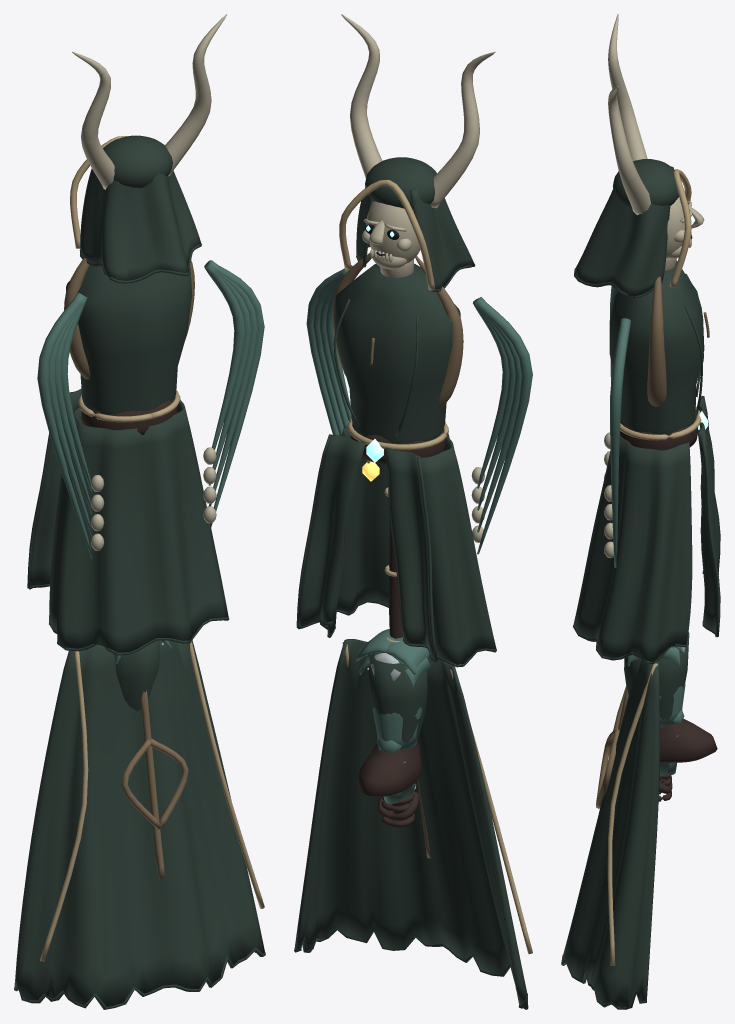
Rendered from guardian_1.glb.
3 views of the same model, side by side, from view 1: azimuth 30°, elevation 25°; view 2: azimuth 150°, elevation 25°; view 3: azimuth 270°, elevation 25° (orthographic). The views are drawn at different scales.
Parts seen in each view (by area): view 1: Cape__sage, Body__sage, Body__patina, Body__bone, Cape__gold, Cape__bronze, LegL__sage, Body__gold, Weapon__bronze, Body__leather; view 2: Body__sage, Cape__sage, Body__patina, Body__bone, LegL__sage, KneeL__leather, Body__gold, Weapon__bronze, ArmL__patina, Cape__gold, KneeL__patina, Weapon__leather (+3 smaller); view 3: Body__sage, Cape__sage, Body__bone, Body__patina, KneeL__leather, Weapon__bronze, LegL__sage, Cape__gold, Body__gold, Cape__bronze, Body__leather, KneeL__patina.
Part boxes in pixels (x1=…): Cape__sage: x1=14, y1=640, x2=265, y2=1009; Body__sage: x1=27, y1=135, x2=229, y2=655; Body__patina: x1=37, y1=260, x2=264, y2=558; Body__bone: x1=72, y1=14, x2=227, y2=550; Cape__gold: x1=40, y1=641, x2=264, y2=961; Cape__bronze: x1=121, y1=690, x2=188, y2=878; LegL__sage: x1=115, y1=640, x2=159, y2=711; Body__gold: x1=70, y1=136, x2=180, y2=422; Weapon__bronze: x1=64, y1=258, x2=194, y2=379; Body__leather: x1=81, y1=398, x2=177, y2=434; Body__sage: x1=296, y1=157, x2=496, y2=667; Cape__sage: x1=294, y1=639, x2=528, y2=1009; Body__patina: x1=306, y1=265, x2=532, y2=554; Body__bone: x1=341, y1=14, x2=495, y2=542; LegL__sage: x1=368, y1=654, x2=427, y2=745; KneeL__leather: x1=357, y1=741, x2=422, y2=797; Body__gold: x1=339, y1=179, x2=448, y2=450; Weapon__bronze: x1=333, y1=253, x2=463, y2=406; ArmL__patina: x1=368, y1=637, x2=430, y2=803; Cape__gold: x1=342, y1=642, x2=532, y2=954; KneeL__patina: x1=370, y1=707, x2=422, y2=763; Weapon__leather: x1=389, y1=518, x2=402, y2=638; Body__sage: x1=573, y1=159, x2=720, y2=664; Cape__sage: x1=561, y1=659, x2=659, y2=1009; Body__bone: x1=604, y1=14, x2=704, y2=557; Body__patina: x1=610, y1=286, x2=630, y2=567; KneeL__leather: x1=660, y1=718, x2=717, y2=762; Weapon__bronze: x1=647, y1=276, x2=666, y2=406; LegL__sage: x1=624, y1=632, x2=689, y2=722; Cape__gold: x1=607, y1=663, x2=657, y2=965; Body__gold: x1=620, y1=169, x2=701, y2=440; Cape__bronze: x1=596, y1=686, x2=628, y2=808; Body__leather: x1=619, y1=410, x2=698, y2=450; KneeL__patina: x1=659, y1=683, x2=685, y2=736.
Size of the model in its own units: 1 by 3.87 by 0.613.
